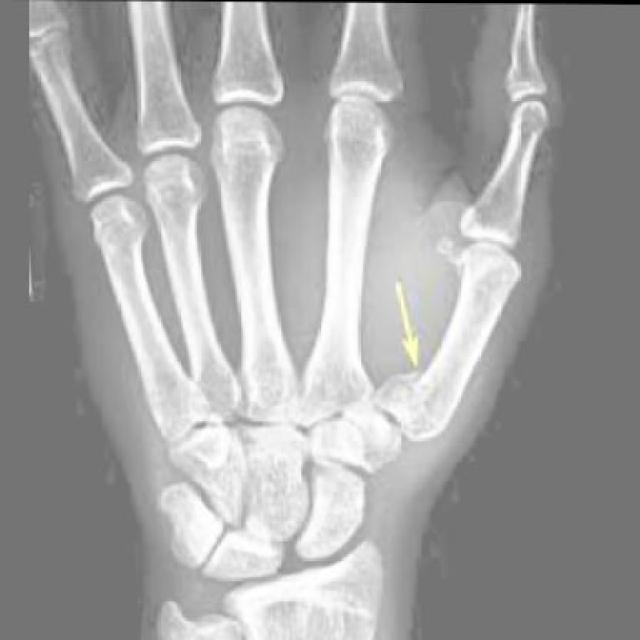Fracture: (384, 372, 442, 434)
